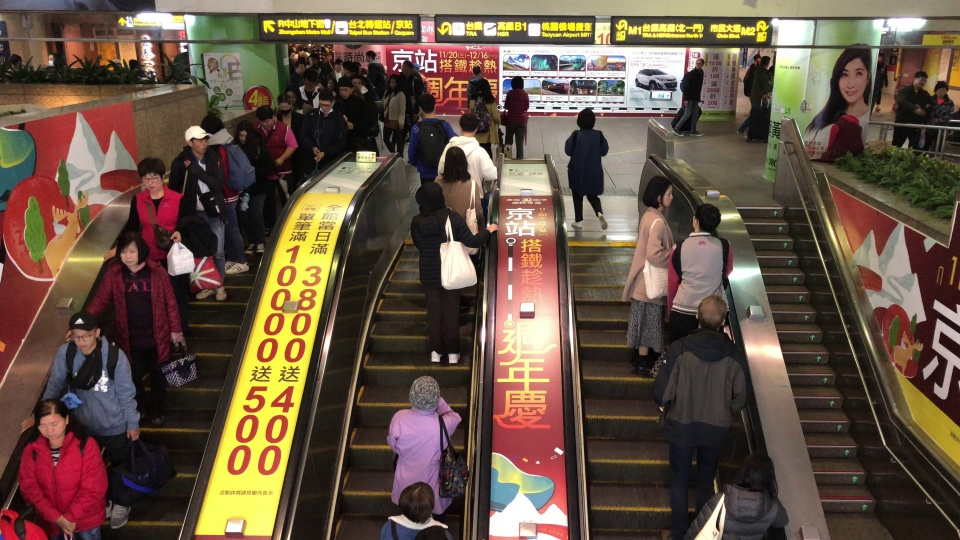person_head: (33, 397, 69, 440), (397, 481, 435, 521), (740, 451, 777, 492), (68, 310, 100, 352), (115, 231, 149, 266), (408, 374, 440, 410), (698, 294, 729, 330), (136, 157, 166, 191), (645, 174, 673, 208), (414, 181, 444, 211), (691, 202, 722, 231), (443, 146, 469, 178), (185, 124, 209, 153), (200, 113, 224, 135), (457, 113, 478, 137), (418, 92, 437, 118), (235, 119, 253, 146), (255, 105, 275, 128), (316, 87, 335, 111), (576, 108, 596, 128), (275, 92, 292, 115), (336, 77, 353, 99), (284, 84, 301, 106), (303, 68, 317, 90), (913, 69, 928, 87), (933, 80, 948, 97), (510, 75, 525, 90), (8, 53, 22, 67), (350, 74, 363, 89), (47, 51, 59, 67), (292, 60, 305, 74), (344, 63, 358, 76), (833, 110, 847, 122), (388, 73, 398, 88), (401, 60, 411, 75), (477, 83, 489, 95), (760, 55, 771, 68), (366, 50, 376, 64), (335, 58, 344, 72), (694, 58, 705, 69), (472, 65, 482, 76), (327, 78, 336, 90), (111, 58, 121, 68), (294, 43, 304, 51), (878, 51, 885, 62), (753, 53, 760, 62), (413, 62, 420, 70)
person_vbox: (19, 310, 141, 530), (64, 230, 183, 427), (651, 294, 745, 540), (408, 181, 500, 365), (101, 156, 191, 336), (16, 397, 109, 540), (385, 374, 463, 517), (619, 174, 674, 376), (168, 124, 228, 301), (682, 450, 789, 540), (666, 202, 733, 343), (199, 113, 256, 275), (250, 105, 298, 238), (563, 108, 609, 234), (234, 119, 275, 256), (436, 112, 497, 201), (406, 92, 457, 185), (433, 145, 485, 233), (298, 87, 348, 177), (378, 481, 454, 540), (890, 69, 930, 151), (735, 54, 771, 139), (808, 110, 864, 163), (671, 58, 705, 139), (468, 82, 502, 155), (376, 73, 406, 152), (503, 75, 530, 160), (336, 77, 368, 139), (929, 80, 953, 157), (399, 59, 420, 145), (351, 75, 378, 135), (868, 51, 888, 124), (273, 84, 312, 114), (466, 64, 491, 107), (275, 92, 300, 131), (298, 68, 320, 110), (365, 50, 385, 88), (414, 62, 432, 92), (288, 60, 306, 85), (325, 58, 344, 80), (293, 43, 309, 61)
